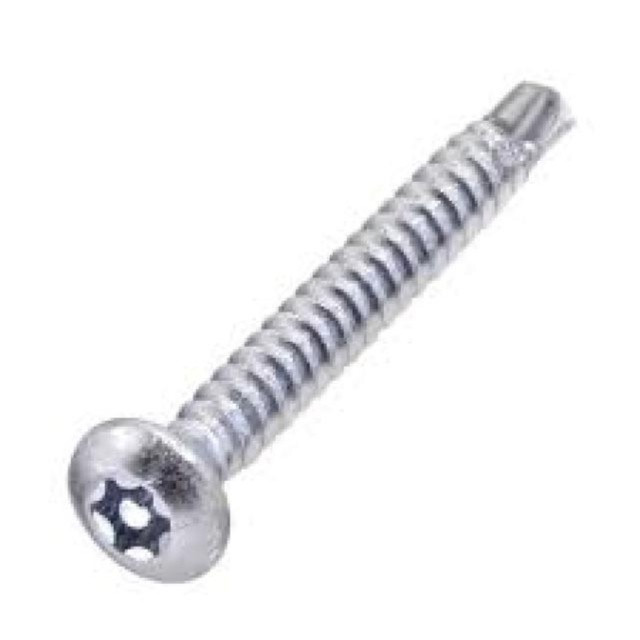torx: (67, 414, 230, 583)
